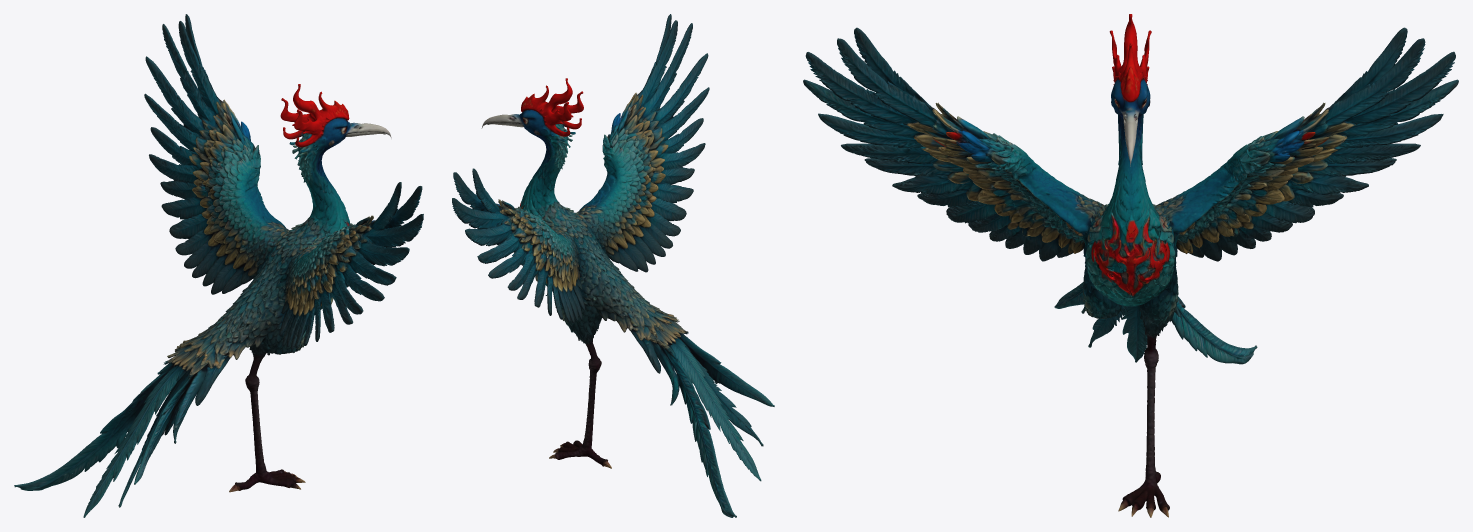
File: bifang.glb
3 views of the same model, side by side, from view 1: azimuth 30°, elevation 25°; view 2: azimuth 150°, elevation 25°; view 3: azimuth 270°, elevation 25° (orthographic). The views are drawn at different scales.
Parts seen in each view (by area): view 1: bifang-corrected; view 2: bifang-corrected; view 3: bifang-corrected.
Part boxes in pixels (bbox=[...]): bifang-corrected: bbox=[14, 14, 423, 517]; bifang-corrected: bbox=[452, 14, 774, 517]; bifang-corrected: bbox=[803, 14, 1458, 517].
Size of the model in its own units: 0.7045 by 0.8278 by 0.9819.
Materials: 1 (1 with a texture image).
